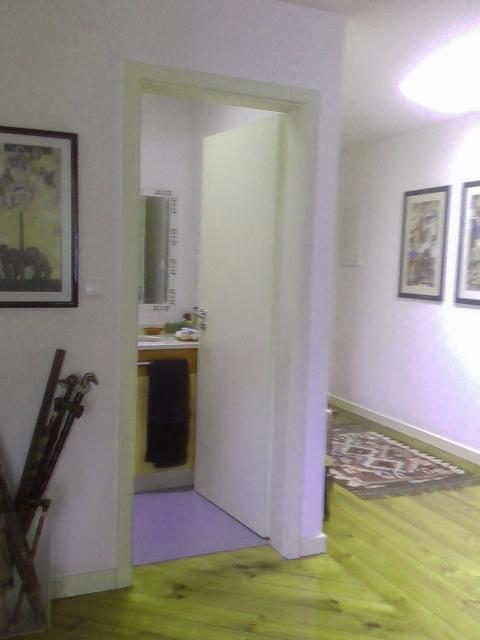open_door: (118, 58, 320, 585)
